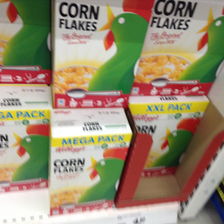cereal: (54, 1, 155, 109), (49, 118, 135, 208), (148, 1, 224, 95), (130, 101, 211, 177), (1, 108, 52, 196)
